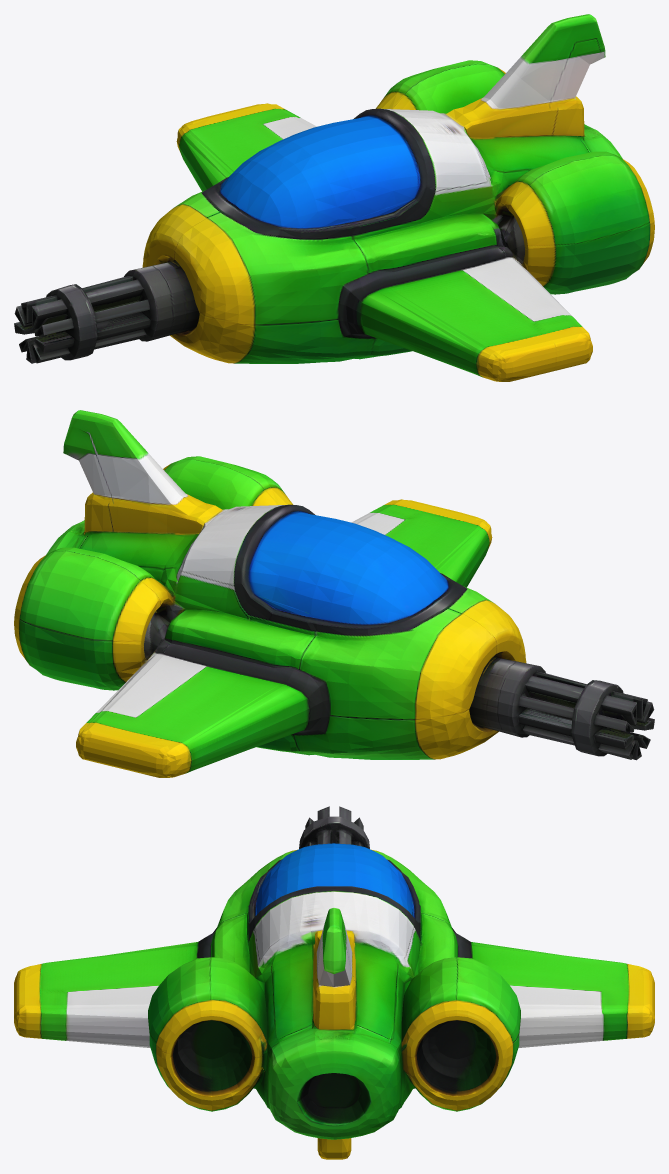
Rendered from Meshy_AI_Emerald_Starfighter_0703084718_texture.glb.
3 renders of one model, top to bottom at view 1: azimuth 30°, elevation 25°; view 2: azimuth 150°, elevation 25°; view 3: azimuth 270°, elevation 25°, orthographic.
Bounding box in the file's own units: 1.91 × 0.8258 × 1.85.
Materials: 1 (1 with a texture image).
